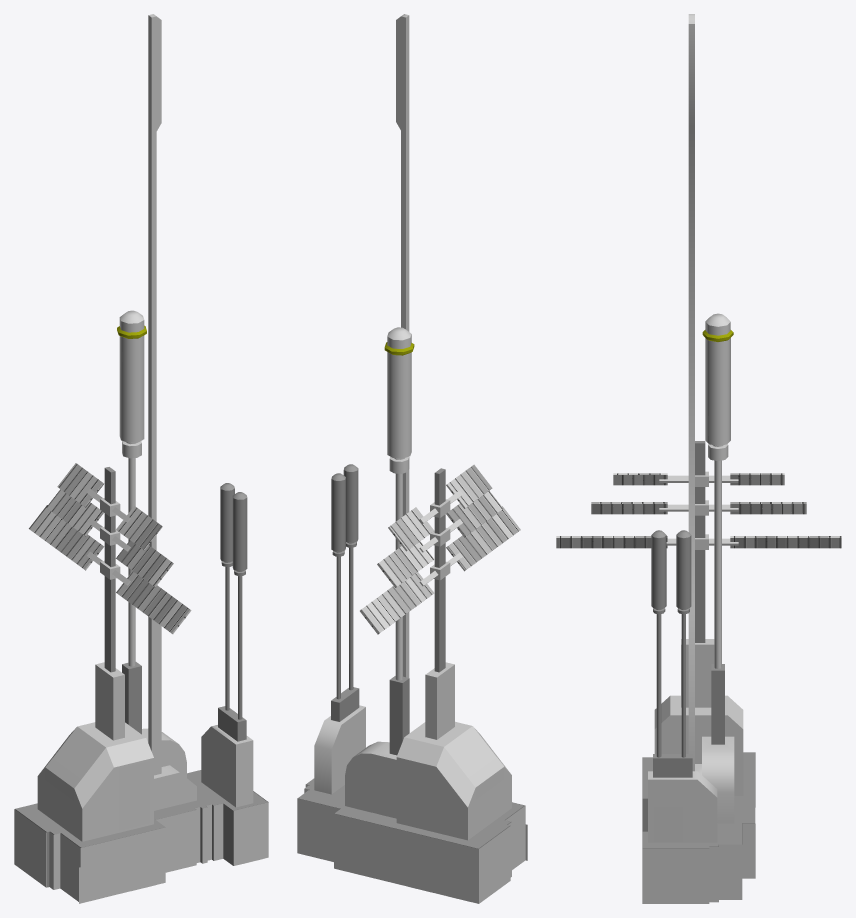
Rendered from Antenna_02.fbx.
The picture shows the model from 3 angles, left to right: view 1: azimuth 30°, elevation 25°; view 2: azimuth 150°, elevation 25°; view 3: azimuth 270°, elevation 25°; orthographic projection.
Parts seen in each view (by area): view 1: Antenna_02, Antenna_02_Decal_Normal, Antenna_02_Decal_Color; view 2: Antenna_02, Antenna_02_Decal_Normal, Antenna_02_Decal_Color; view 3: Antenna_02, Antenna_02_Decal_Normal, Antenna_02_Decal_Color.
Boxes of the visible parts, x1,y1,x2,y2 form: Antenna_02: (15, 14, 267, 887); Antenna_02_Decal_Normal: (14, 770, 268, 901); Antenna_02_Decal_Color: (45, 335, 262, 903); Antenna_02: (298, 14, 524, 848); Antenna_02_Decal_Normal: (297, 778, 525, 903); Antenna_02_Decal_Color: (356, 352, 527, 901); Antenna_02: (556, 14, 841, 848); Antenna_02_Decal_Normal: (642, 752, 755, 903); Antenna_02_Decal_Color: (654, 338, 730, 842).
Size of what is drawn, in the model's own units: 3.67 by 15 by 4.6.
